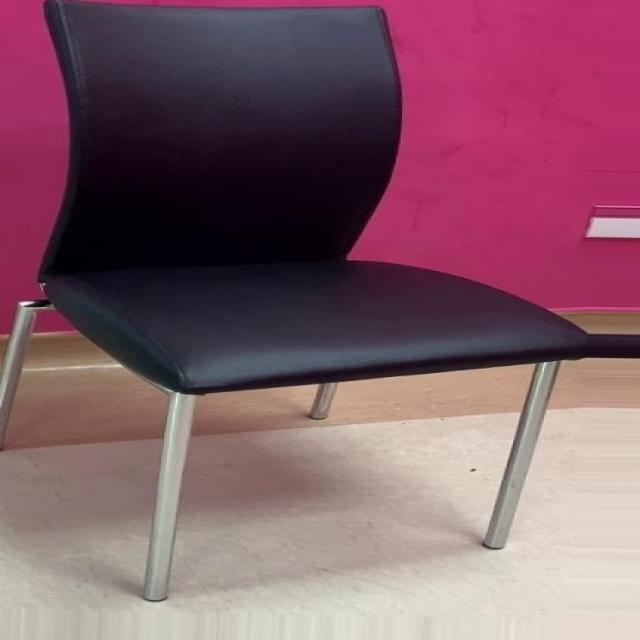chair: (2, 1, 580, 606)
